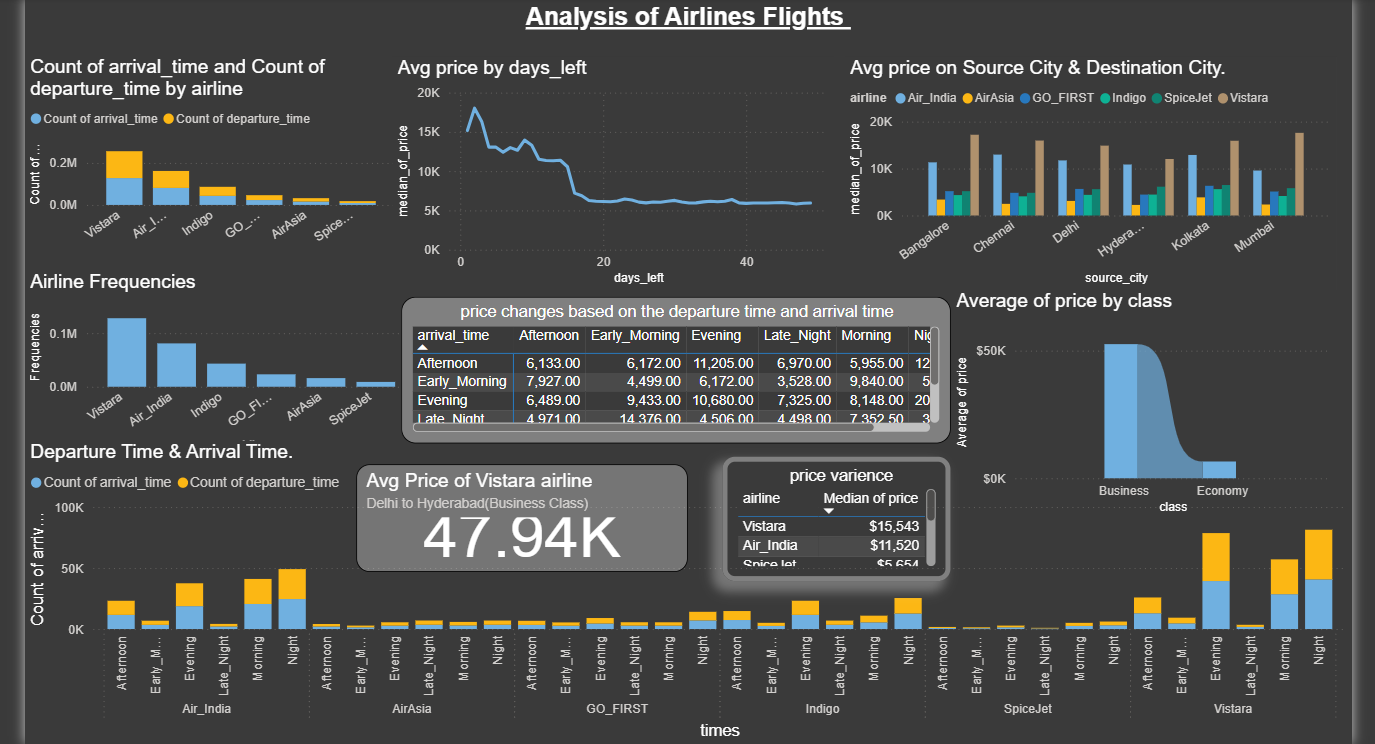

This screenshot's page, from the dashboard's own definition file:
{"tool":"powerbi","page":{"name":"Page 1","canvas":[1280,720],"ordinal":0},"visuals":[{"type":"columnChart","title":"Airline Frequencies","fields":{"Y":["airlines_flights_data.Measure"],"Category":["airlines_flights_data.airline"]},"box":[0,262.9,382.9,180],"z":0},{"type":"actionButton","box":[0,0,100,40],"z":1000},{"type":"columnChart","fields":{"Category":["airlines_flights_data.airline"],"Y":["CountNonNull(airlines_flights_data.arrival_time)","CountNonNull(airlines_flights_data.departure_time)"]},"box":[0,55.7,362.9,191.4],"z":2000},{"type":"columnChart","title":"Departure Time & Arrival Time.","fields":{"Y":["CountNonNull(airlines_flights_data.arrival_time)","CountNonNull(airlines_flights_data.departure_time)"],"Category":["airlines_flights_data.airline","unique_times.times"]},"box":[0,426.8,1280.3,293.5],"z":3000},{"type":"tableEx","title":" price varience","fields":{"Values":["airlines_flights_data.airline","Median(airlines_flights_data.price)"]},"box":[673.8,442.7,220.1,119.8],"z":4000},{"type":"pivotTable","title":"price changes based on the departure time and arrival time","fields":{"Rows":["airlines_flights_data.arrival_time"],"Values":["airlines_flights_data.median_of_price"],"Columns":["airlines_flights_data.departure_time"]},"box":[363.2,288.6,530.7,141.8],"z":5000},{"type":"clusteredColumnChart","title":"Avg price on Source City & Destination City.","fields":{"Category":["airlines_flights_data.source_city","airlines_flights_data.destination_city"],"Y":["airlines_flights_data.median_of_price"],"Series":["airlines_flights_data.airline"]},"box":[791.2,56.3,474.5,225],"z":6000},{"type":"lineChart","title":"Avg price by days_left","fields":{"Category":["airlines_flights_data.days_left"],"Y":["airlines_flights_data.median_of_price"]},"box":[354.6,56.3,425.5,225],"z":7000},{"type":"ribbonChart","fields":{"Category":["airlines_flights_data.class"],"Y":["Avg(airlines_flights_data.price)"]},"box":[893.9,281.3,371.7,221.3],"z":8000},{"type":"card","title":"Avg Price of Vistara airline","fields":{"Values":["airlines_flights_data.vir-avgprice-del-mum"]},"box":[319.2,450,320.4,103.9],"z":9000},{"type":"textbox","box":[0,0,1280.3,40.4],"z":10000}]}

Visuals, with their boxes on the page's 1280x720 design canvas (x1, y1, x2, y2). These are canvas units, not pixel positions in the 1375x744 screenshot, which may show the page scaled, cropped or inside an application window:
"Airline Frequencies" columnChart: bbox(0, 263, 383, 443)
actionButton: bbox(0, 0, 100, 40)
columnChart - airlines_flights_data.airline x CountNonNull(airlines_flights_data.arrival_time): bbox(0, 56, 363, 247)
"Departure Time & Arrival Time." columnChart: bbox(0, 427, 1280, 720)
" price varience" tableEx: bbox(674, 443, 894, 562)
"price changes based on the departure time and arrival time" pivotTable: bbox(363, 289, 894, 430)
"Avg price on Source City & Destination City." clusteredColumnChart: bbox(791, 56, 1266, 281)
"Avg price by days_left" lineChart: bbox(355, 56, 780, 281)
ribbonChart - airlines_flights_data.class x Avg(airlines_flights_data.price): bbox(894, 281, 1266, 503)
"Avg Price of Vistara airline" card: bbox(319, 450, 640, 554)
textbox: bbox(0, 0, 1280, 40)
